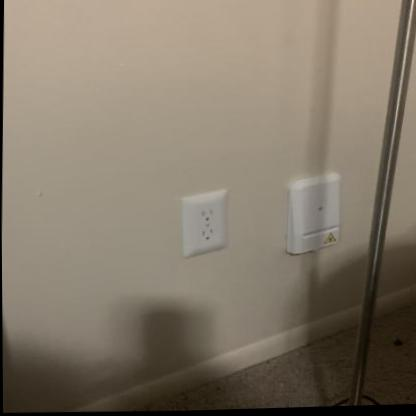OUTLET: (179, 189, 230, 254)
